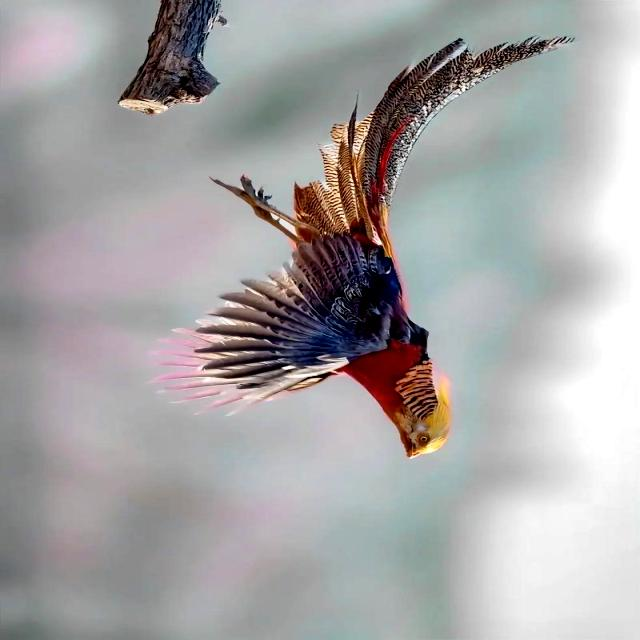Chrysolophus pictus feather: (294, 37, 575, 261)
